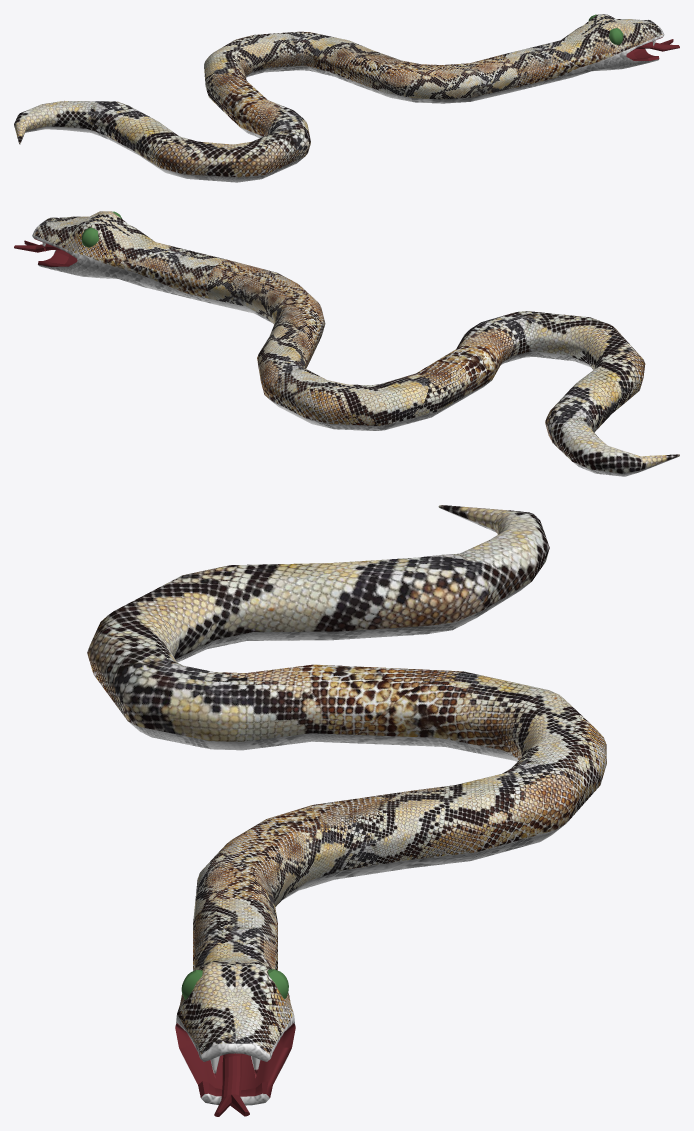
File: Danger_noodle.fbx
3 renders of one model, top to bottom at view 1: azimuth 30°, elevation 25°; view 2: azimuth 150°, elevation 25°; view 3: azimuth 270°, elevation 25°, orthographic. The views are drawn at different scales.
Visible parts, largest first — view 1: SnakeBody1; view 2: SnakeBody1; view 3: SnakeBody1.
Boxes of the visible parts, x1,y1,x2,y2 form: SnakeBody1: (14,14,679,182); SnakeBody1: (14,211,679,476); SnakeBody1: (87,505,606,1116).
Size of the model in its own units: 323 by 25.62 by 120.
Materials: 2 (1 with a texture image).
